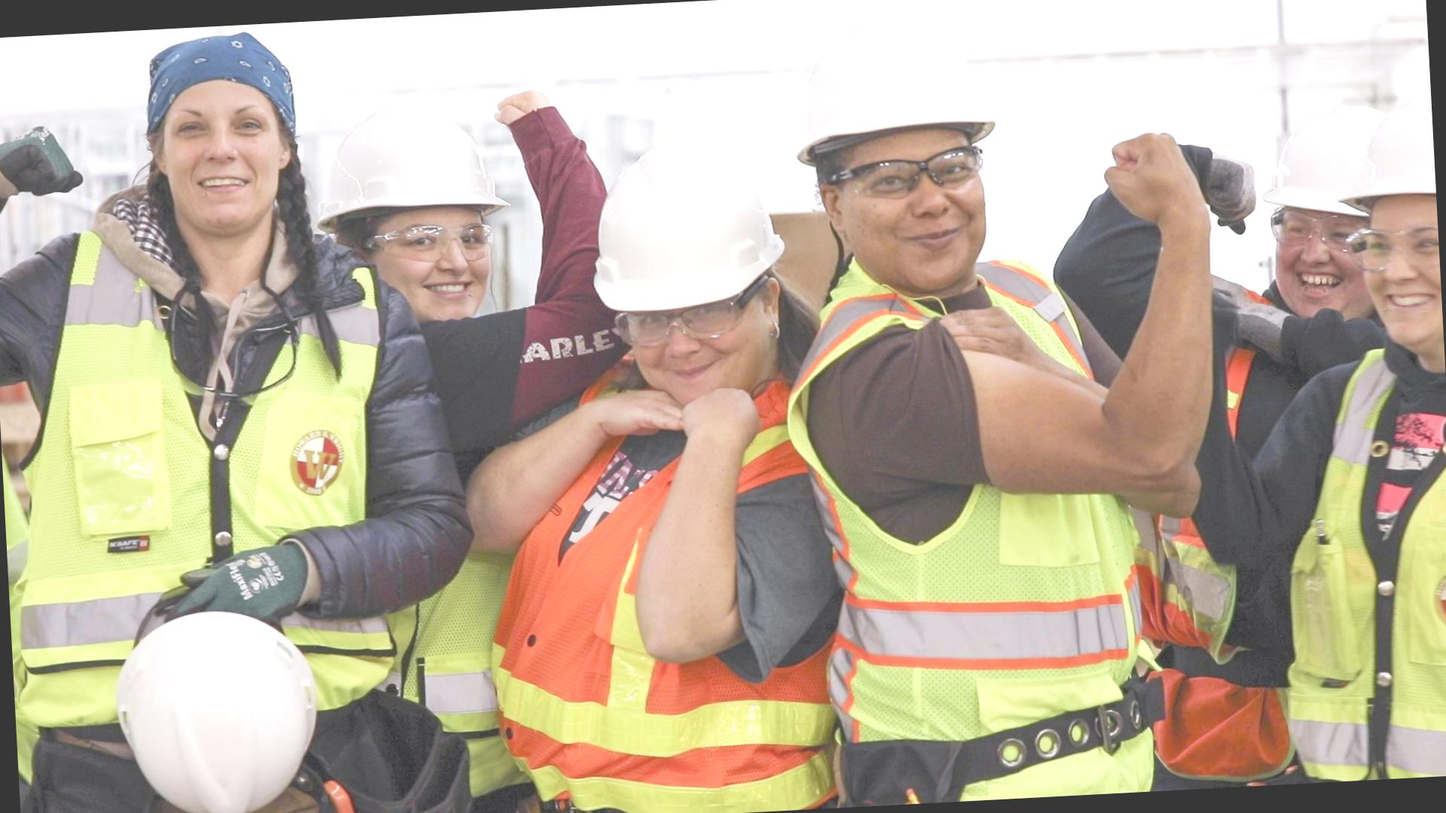helmet: (79, 606, 334, 813), (575, 134, 787, 315), (307, 99, 521, 236), (789, 3, 989, 141), (1248, 82, 1402, 240)
person: (755, 14, 1242, 794), (0, 32, 423, 779), (482, 137, 870, 808), (1106, 113, 1446, 768), (290, 70, 601, 751)
